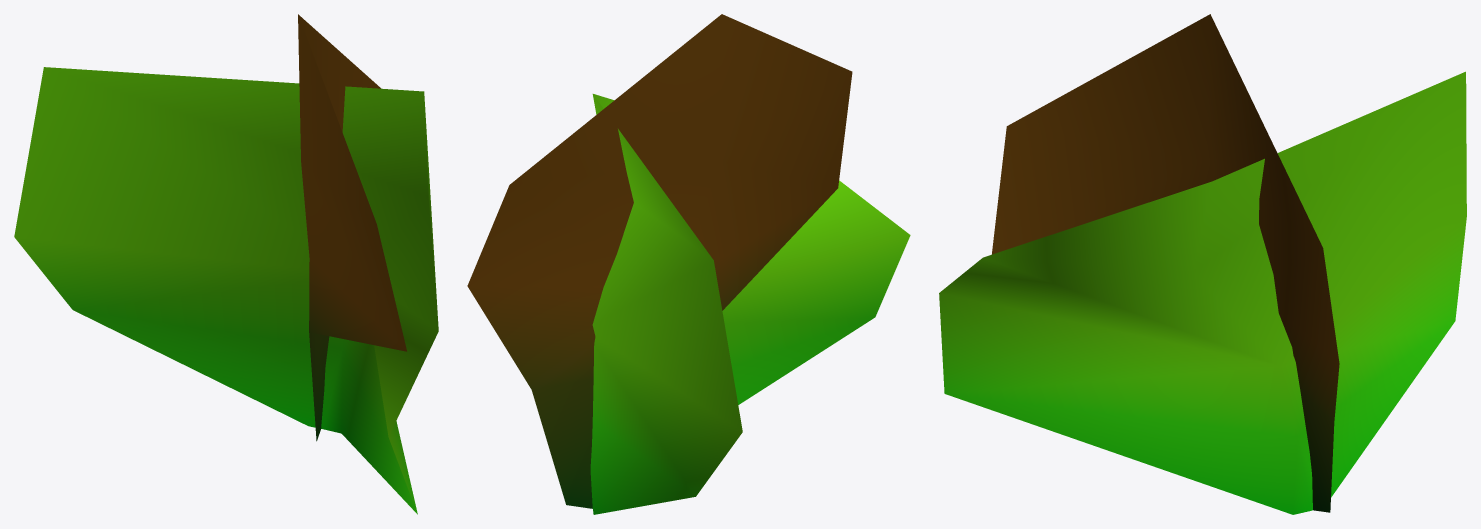
The model's file is Var1Hi44.fbx.
3 renders of one model, left to right at view 1: azimuth 30°, elevation 25°; view 2: azimuth 150°, elevation 25°; view 3: azimuth 270°, elevation 25°, orthographic. The views are drawn at different scales.
Visible parts, largest first — view 1: bend1; view 2: bend1; view 3: bend1.
Boxes of the visible parts, <box> form: bend1: <box>14,14,438,514</box>; bend1: <box>467,14,910,514</box>; bend1: <box>939,14,1466,514</box>.
Bounding box in the file's own units: 1.03 × 1.39 × 1.43.
